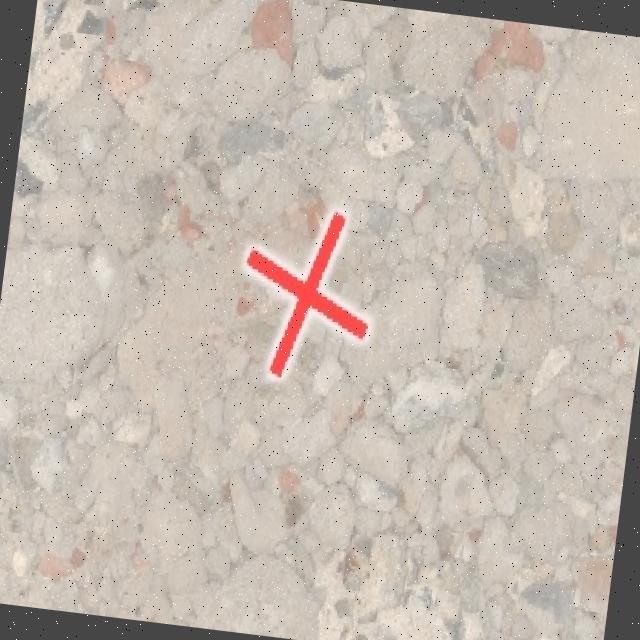x_marker: (232, 200, 380, 385)
